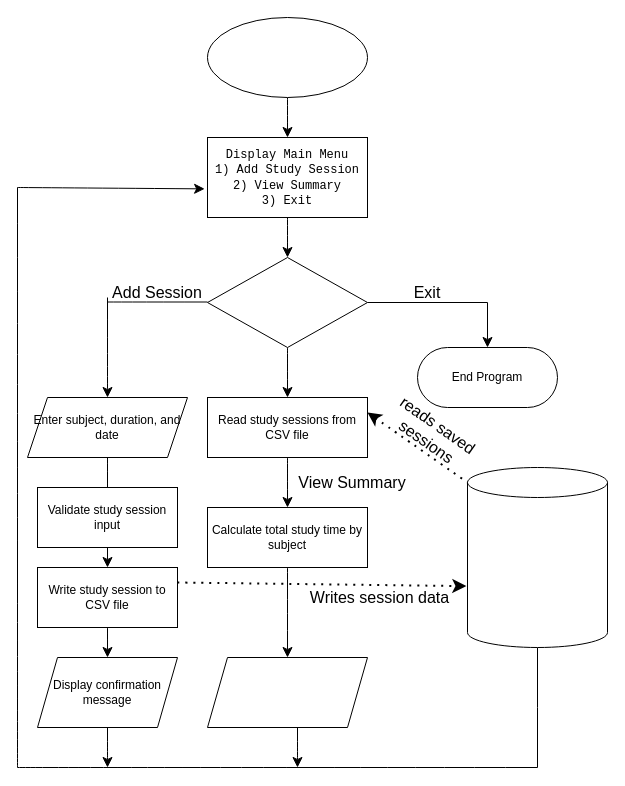
Image size: 625x786. Some labels were removed from this diagram. Here are the shapes that lost their labels. From the top down, the box of each, then its label:
(206, 16, 368, 98): Start Study Time Tracker
(206, 256, 368, 348): What does the user want to do?
(466, 466, 608, 648): study_sessions.csv (CSV Data Storage)
(206, 656, 368, 728): Display study-time summary
